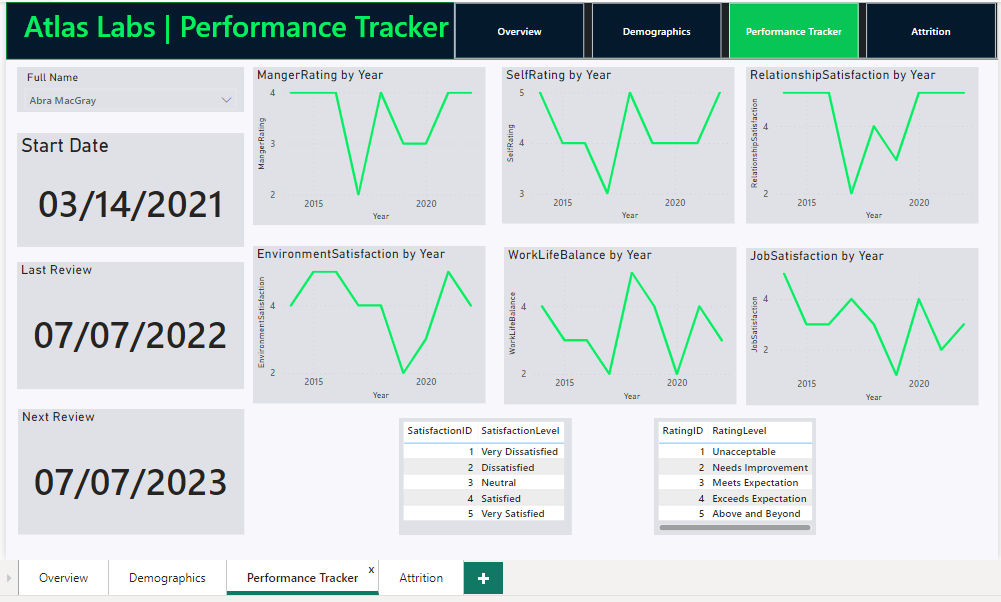

This screenshot's page, from the dashboard's own definition file:
{"tool":"powerbi","page":{"name":"Performance Tracker","canvas":[1280,720],"ordinal":2},"visuals":[{"type":"slicer","fields":{"Values":["DimEmployee.Full Name"]},"box":[13.8,84,293.2,57.8],"z":0},{"type":"card","title":"Start Date","fields":{"Values":["Min(DimEmployee.HireDate)"]},"box":[13.8,169.3,293.2,147.3],"z":1000},{"type":"card","title":"Last Review","fields":{"Values":["_Measures.LastReviewDate"]},"box":[13.8,335.8,293.2,163.8],"z":2000},{"type":"card","title":"Next Review","fields":{"Values":["_Measures.NextReviewDate"]},"box":[15.1,525.8,291.8,162.4],"z":3000},{"type":"lineChart","fields":{"Y":["_Measures.EnvironmentSatisfaction"],"Category":["DimDate.Year"]},"box":[319.3,315.2,300,203],"z":4000},{"type":"lineChart","fields":{"Y":["_Measures.MangerRating"],"Category":["DimDate.Year"]},"box":[319.3,84,300,203.7],"z":5000},{"type":"shape","box":[0,0,1280,74.3],"z":6000},{"type":"textbox","box":[17.9,0,624.9,64.7],"z":7000},{"type":"lineChart","fields":{"Category":["DimDate.Date.Variation.Date Hierarchy.Year"],"Y":["_Measures.SelfRating"]},"box":[640,84,300,202.3],"z":8000},{"type":"lineChart","fields":{"Category":["DimDate.Date.Variation.Date Hierarchy.Year"],"Y":["_Measures.WorkLifeBalance"]},"box":[642.8,316.6,300,203],"z":9000},{"type":"lineChart","fields":{"Category":["DimDate.Date.Variation.Date Hierarchy.Year"],"Y":["_Measures.RelationshipSatisfaction"]},"box":[955.2,84,300,202.3],"z":10000},{"type":"lineChart","fields":{"Category":["DimDate.Date.Variation.Date Hierarchy.Year"],"Y":["_Measures.JobSatisfaction"]},"box":[955,317,300,203],"z":11000},{"type":"tableEx","fields":{"Values":["DimRatingLevel.RatingID","DimRatingLevel.RatingLevel"]},"box":[836.1,536.8,209,151],"z":12000},{"type":"tableEx","fields":{"Values":["DimSatisfiedLevel.SatisfactionID","DimSatisfiedLevel.SatisfactionLevel"]},"box":[507.1,536.8,223.2,151],"z":13000},{"type":"pageNavigator","box":[578.1,0,701.9,72.9],"z":14000}]}

Visuals, with their boxes on the page's 1280x720 design canvas (x1, y1, x2, y2). These are canvas units, not pixel positions in the 1001x602 screenshot, which may show the page scaled, cropped or inside an application window:
slicer - DimEmployee.Full Name: 14, 84, 307, 142
"Start Date" card: 14, 169, 307, 317
"Last Review" card: 14, 336, 307, 500
"Next Review" card: 15, 526, 307, 688
lineChart - _Measures.EnvironmentSatisfaction x DimDate.Year: 319, 315, 619, 518
lineChart - _Measures.MangerRating x DimDate.Year: 319, 84, 619, 288
shape: 0, 0, 1280, 74
textbox: 18, 0, 643, 65
lineChart - DimDate.Date.Variation.Date Hierarchy.Year x _Measures.SelfRating: 640, 84, 940, 286
lineChart - DimDate.Date.Variation.Date Hierarchy.Year x _Measures.WorkLifeBalance: 643, 317, 943, 520
lineChart - DimDate.Date.Variation.Date Hierarchy.Year x _Measures.RelationshipSatisfaction: 955, 84, 1255, 286
lineChart - DimDate.Date.Variation.Date Hierarchy.Year x _Measures.JobSatisfaction: 955, 317, 1255, 520
tableEx - DimRatingLevel.RatingID x DimRatingLevel.RatingLevel: 836, 537, 1045, 688
tableEx - DimSatisfiedLevel.SatisfactionID x DimSatisfiedLevel.SatisfactionLevel: 507, 537, 730, 688
pageNavigator: 578, 0, 1280, 73
